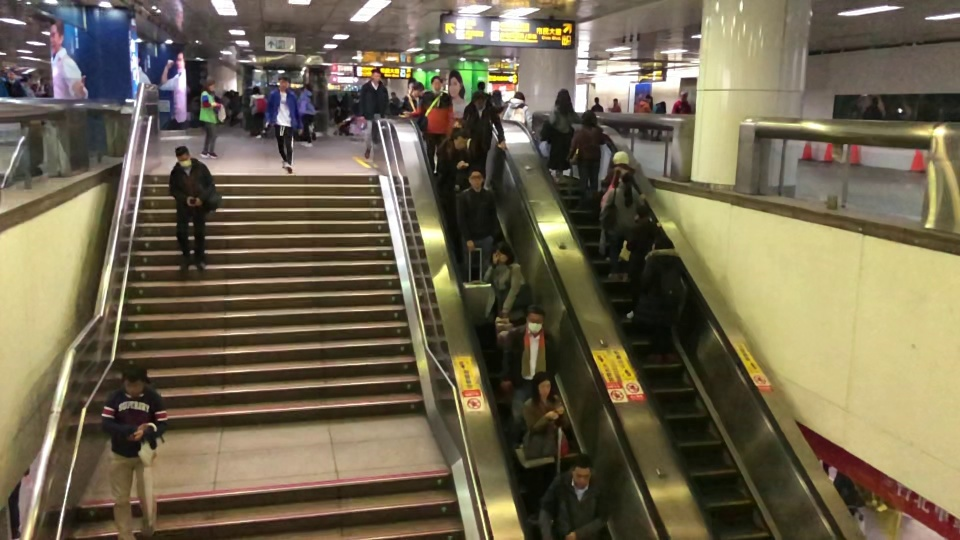person_head: (121, 363, 148, 396), (569, 453, 594, 488), (524, 304, 546, 333), (532, 371, 553, 400), (491, 240, 515, 265), (466, 165, 486, 189), (173, 145, 192, 168), (452, 127, 470, 151), (651, 235, 675, 251), (453, 117, 471, 138), (554, 88, 571, 108), (470, 90, 486, 111), (580, 109, 598, 127), (617, 171, 634, 189), (612, 150, 629, 167), (633, 204, 651, 220), (411, 81, 425, 97), (278, 75, 291, 91), (430, 75, 443, 91), (201, 79, 216, 92), (370, 68, 381, 83), (513, 90, 525, 103), (476, 80, 486, 92), (22, 75, 32, 86), (302, 83, 312, 93), (6, 69, 15, 80), (680, 90, 688, 100), (252, 86, 260, 95), (659, 101, 666, 109), (645, 94, 651, 103), (223, 90, 230, 97), (389, 91, 396, 98), (593, 96, 600, 103), (612, 98, 618, 105), (233, 91, 239, 97), (329, 89, 335, 95), (355, 92, 360, 99), (343, 92, 348, 98)
person_vbox: (99, 363, 169, 540), (498, 304, 560, 439), (515, 371, 565, 526), (631, 235, 688, 366), (434, 127, 487, 260), (536, 453, 610, 540), (168, 145, 214, 274), (598, 171, 646, 281), (402, 75, 455, 174), (454, 165, 498, 280), (566, 109, 610, 211), (462, 90, 508, 186), (625, 204, 662, 321), (263, 75, 303, 174), (482, 240, 530, 319), (541, 88, 581, 182), (358, 68, 389, 159), (197, 79, 221, 158), (436, 116, 476, 160), (8, 466, 30, 539), (600, 150, 636, 190), (296, 83, 316, 148), (389, 80, 425, 116), (503, 90, 533, 132), (248, 85, 267, 139), (649, 100, 667, 142), (634, 94, 651, 134), (4, 69, 26, 97), (671, 90, 692, 115), (228, 91, 241, 127), (328, 88, 340, 124), (471, 80, 491, 101), (19, 75, 36, 97), (340, 92, 353, 119), (389, 90, 400, 115), (353, 92, 361, 117), (590, 96, 603, 111), (609, 98, 622, 112), (0, 76, 9, 96), (220, 90, 230, 107)
